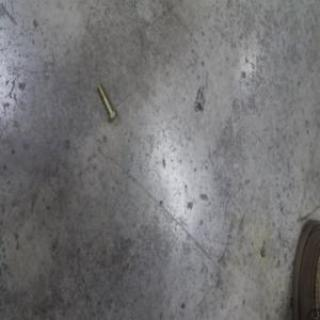Bolttrack_idkeyframe: (95, 81, 116, 123)
